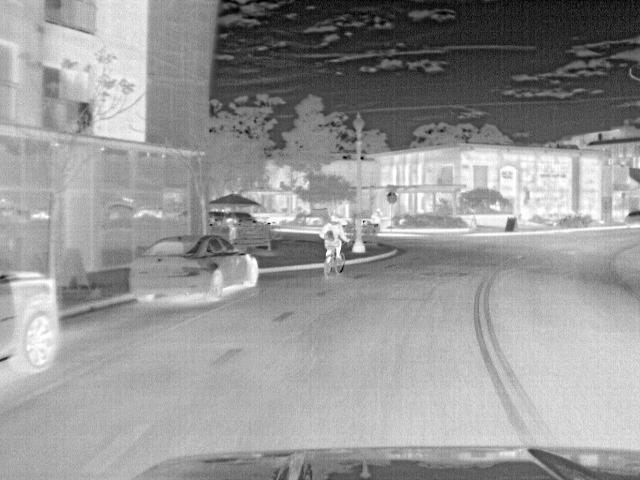car: (126, 235, 263, 304), (3, 269, 59, 373)
person: (318, 216, 347, 266)
